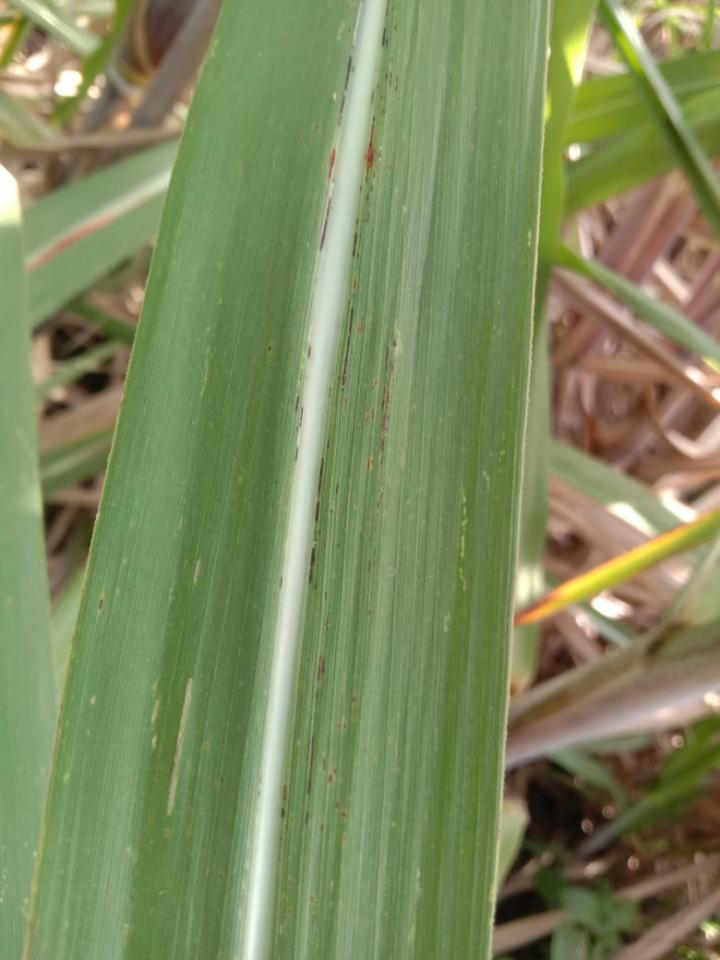RedRot: (26, 214, 115, 274)
Rust: (350, 66, 403, 262), (317, 692, 366, 827), (360, 334, 401, 475), (332, 0, 364, 128), (338, 268, 360, 393), (306, 453, 326, 585), (317, 145, 340, 252), (301, 731, 319, 830), (291, 393, 306, 467), (379, 0, 398, 51), (313, 651, 330, 687), (280, 779, 287, 821), (96, 591, 106, 615)
